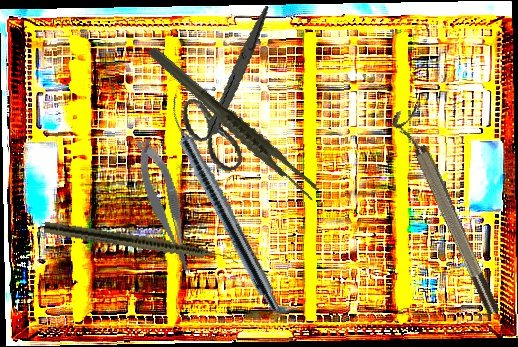Fixation Ring: (388, 104, 504, 321)
Handpiece: (157, 96, 288, 314), (43, 220, 240, 267)
Iris Scissors: (165, 5, 298, 178)
Micro Scissor: (132, 134, 197, 281)
Tissue Forceps: (145, 19, 323, 226)
